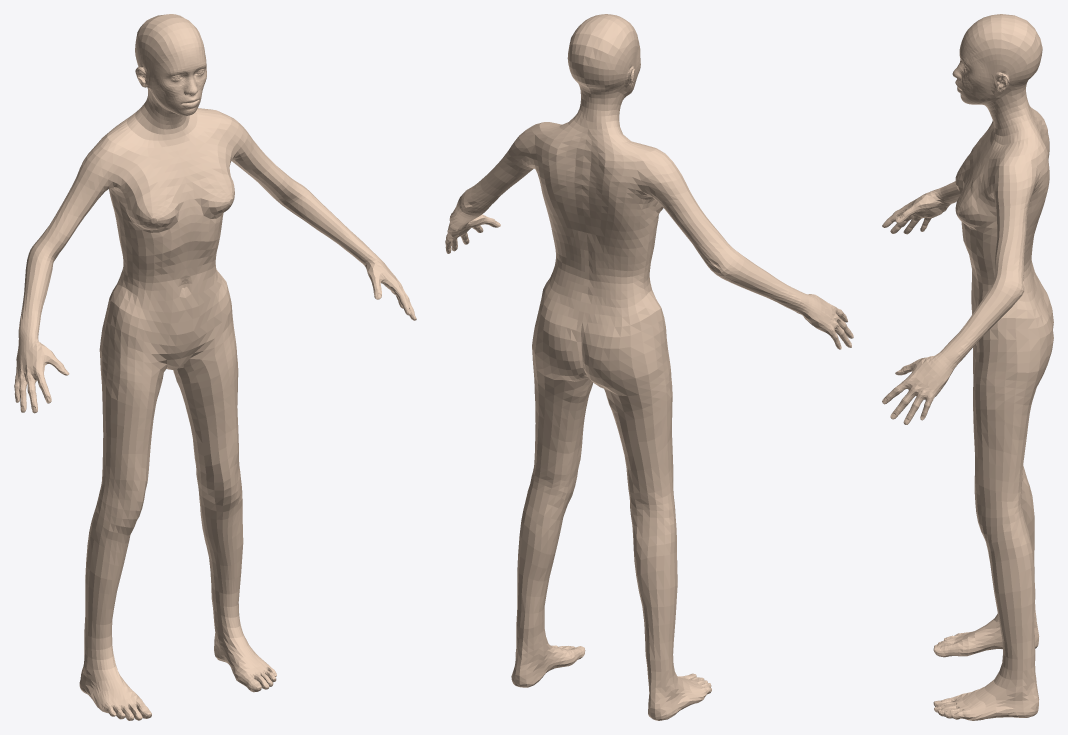
File: female-young-lean-toned.glb
3 views of the same model, side by side, from view 1: azimuth 30°, elevation 25°; view 2: azimuth 150°, elevation 25°; view 3: azimuth 270°, elevation 25° (orthographic).
Parts seen in each view (by area): view 1: world; view 2: world; view 3: world.
Part boxes in pixels (x1=…): world: x1=14, y1=14, x2=416, y2=720; world: x1=445, y1=14, x2=853, y2=720; world: x1=882, y1=14, x2=1053, y2=720.
Size of the model in its own units: 1.09 by 1.76 by 0.411.
